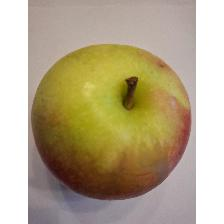Apfel: (28, 35, 194, 203)
